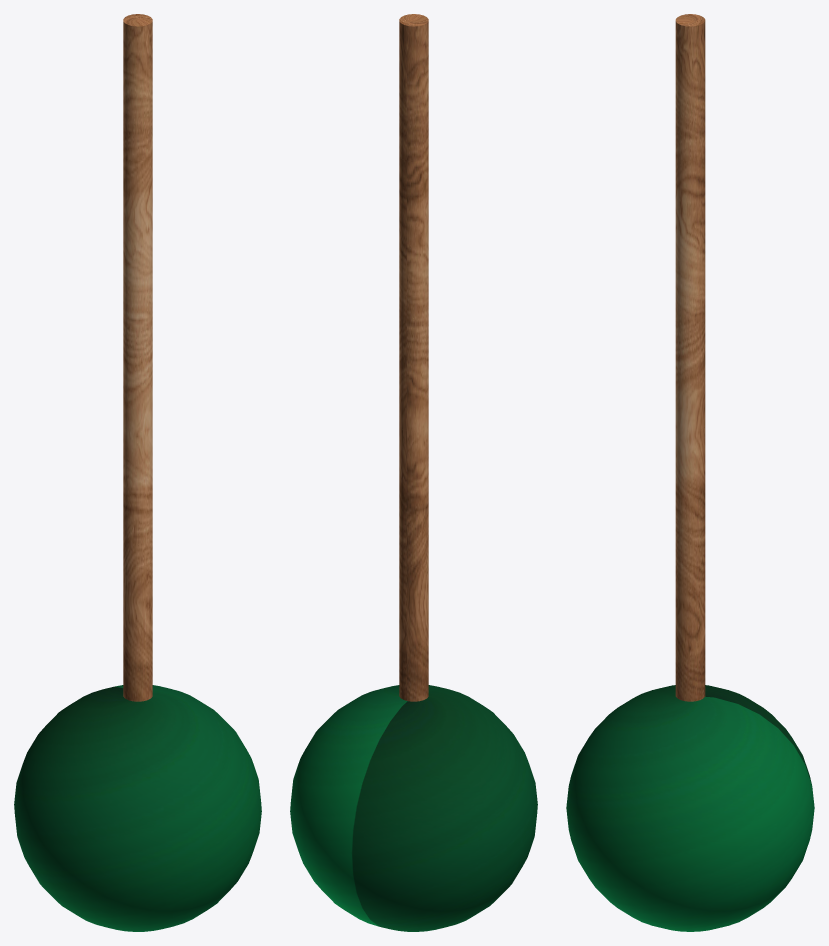
Rendered from pendulo.obj.
3 renders of one model, left to right at view 1: azimuth 30°, elevation 25°; view 2: azimuth 150°, elevation 25°; view 3: azimuth 270°, elevation 25°, orthographic.
Parts seen in each view (by area): view 1: Sphere001, Cylinder001; view 2: Sphere001, Cylinder001; view 3: Sphere001, Cylinder001.
Part boxes in pixels (bbox=[...]): Sphere001: bbox=[14, 685, 261, 931]; Cylinder001: bbox=[123, 14, 152, 701]; Sphere001: bbox=[290, 685, 537, 931]; Cylinder001: bbox=[399, 14, 428, 701]; Sphere001: bbox=[566, 685, 814, 931]; Cylinder001: bbox=[675, 14, 705, 701].
Bounding box in the file's own units: 2 × 8 × 2.
